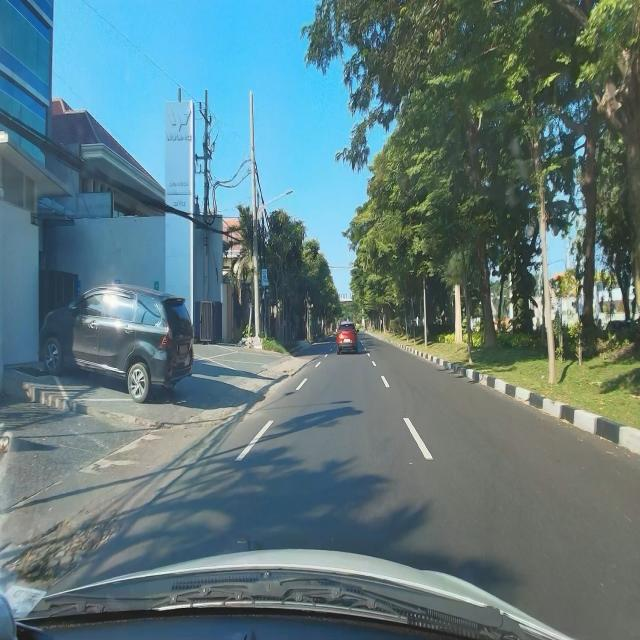car: (336, 320, 359, 356)
